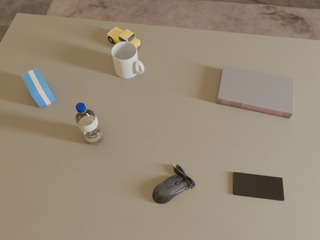book: (216, 66, 294, 118)
bottle: (75, 103, 103, 144)
box: (21, 68, 56, 108)
cup: (112, 42, 144, 78)
mouse: (153, 164, 195, 204)
phone: (233, 172, 284, 201)
toy_car: (107, 27, 140, 48)
